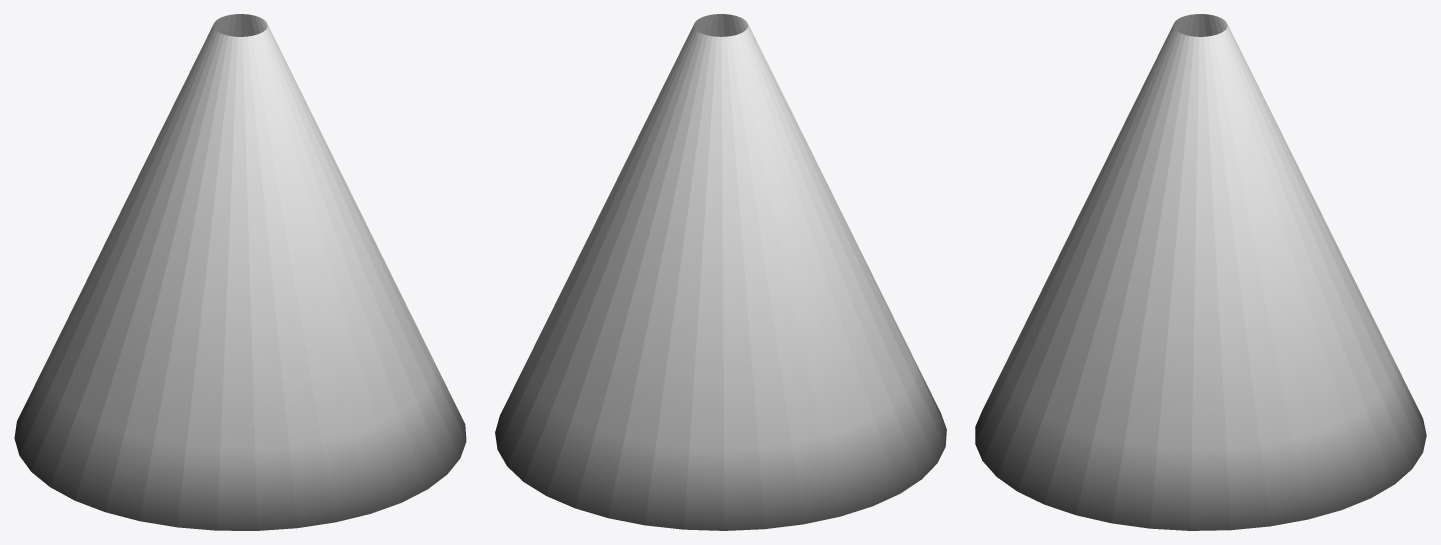
File: lightcone.fbx
3 views of the same model, side by side, from view 1: azimuth 30°, elevation 25°; view 2: azimuth 150°, elevation 25°; view 3: azimuth 270°, elevation 25° (orthographic).
Parts seen in each view (by area): view 1: Cone; view 2: Cone; view 3: Cone.
Boxes of the visible parts, x1,y1,x2,y2 form: Cone: (14, 14, 466, 530); Cone: (495, 14, 946, 530); Cone: (975, 14, 1426, 530).
Size of the model in its own units: 200 by 200 by 200.
